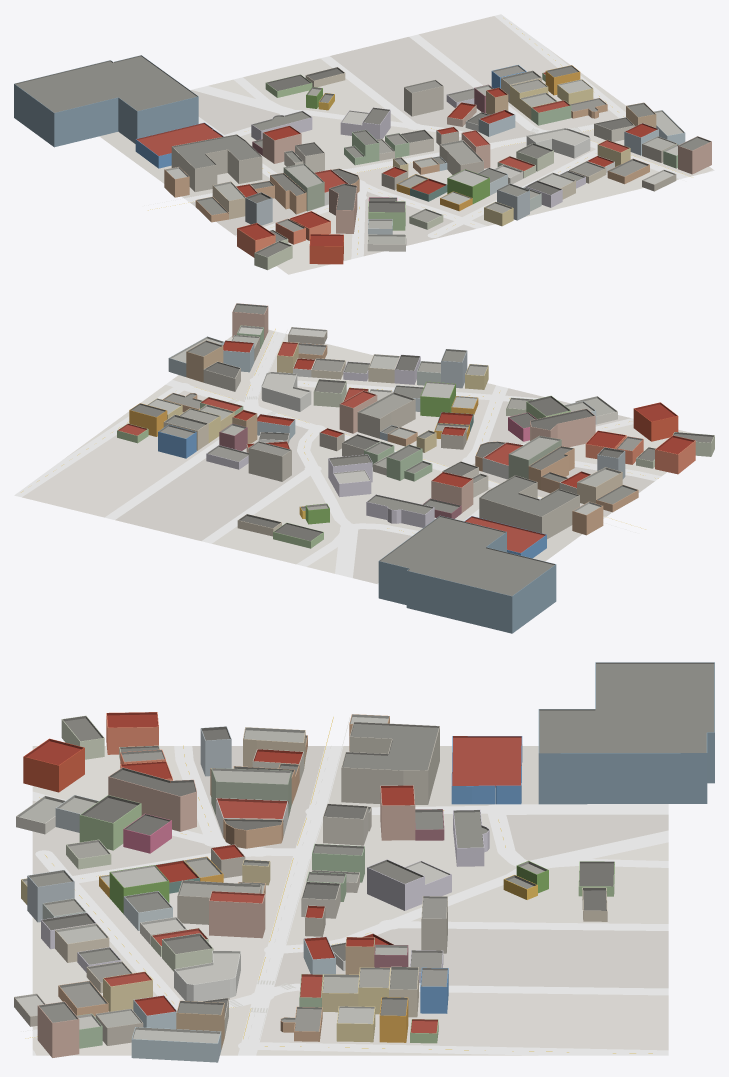
3 renders of one model, top to bottom at view 1: azimuth 30°, elevation 25°; view 2: azimuth 150°, elevation 25°; view 3: azimuth 270°, elevation 25°, orthographic. The views are drawn at different scales.
Visible parts, largest first — view 1: walls, roofs, ground, asphalt, pavers; view 2: walls, roofs, ground, asphalt, pavers; view 3: ground, roofs, walls, asphalt, pavers, markings.
Boxes of the visible parts, left/top/right/bottom form: walls: left=14, top=71, right=711, bottom=270; roofs: left=14, top=55, right=711, bottom=257; ground: left=99, top=16, right=713, bottom=274; asphalt: left=184, top=14, right=714, bottom=259; pavers: left=191, top=86, right=294, bottom=135; walls: left=117, top=307, right=714, bottom=633; roofs: left=117, top=303, right=714, bottom=596; ground: left=22, top=329, right=692, bottom=583; asphalt: left=14, top=331, right=661, bottom=566; pavers: left=335, top=523, right=378, bottom=584; ground: left=32, top=746, right=668, bottom=1055; roofs: left=14, top=662, right=714, bottom=1043; walls: left=14, top=716, right=714, bottom=1062; asphalt: left=32, top=746, right=668, bottom=1055; pavers: left=488, top=804, right=668, bottom=868; markings: left=21, top=717, right=652, bottom=1053.
Size of what is drawn, in the model's own units: 282 by 19.12 by 239.
